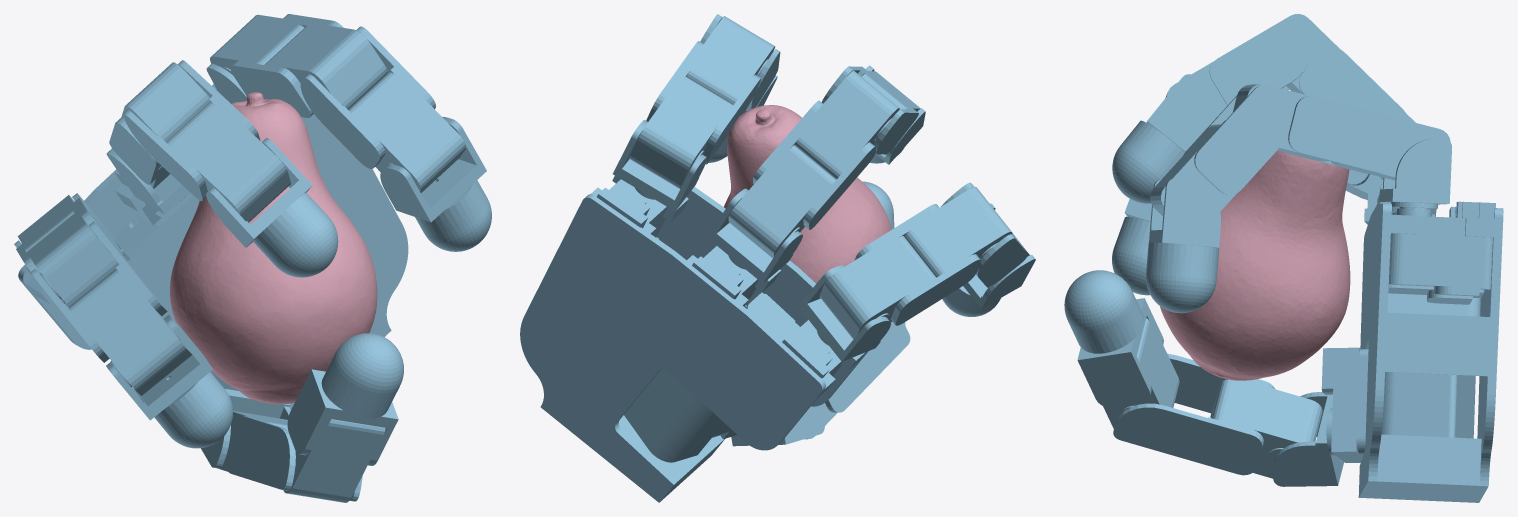
The picture shows the model from 3 angles, left to right: view 1: azimuth 30°, elevation 25°; view 2: azimuth 150°, elevation 25°; view 3: azimuth 270°, elevation 25°; orthographic projection. The views are drawn at different scales.
Parts seen in each view (by area): view 1: world, pear.stl; view 2: world, pear.stl; view 3: world, pear.stl.
Boxes of the visible parts, left/top/right/bottom form: world: left=14, top=14, right=491, bottom=502; pear.stl: left=170, top=92, right=377, bottom=404; world: left=520, top=14, right=1035, bottom=502; pear.stl: left=724, top=105, right=891, bottom=283; world: left=1064, top=14, right=1503, bottom=502; pear.stl: left=1160, top=150, right=1350, bottom=380.
Bounding box in the file's own units: 0.1654 × 0.164 × 0.1484.
